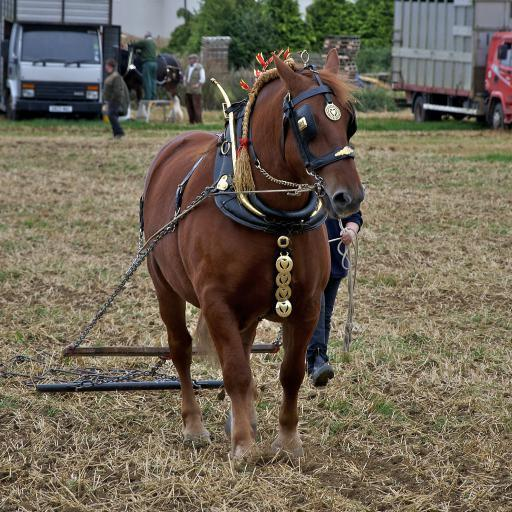horse: (142, 47, 364, 466)
